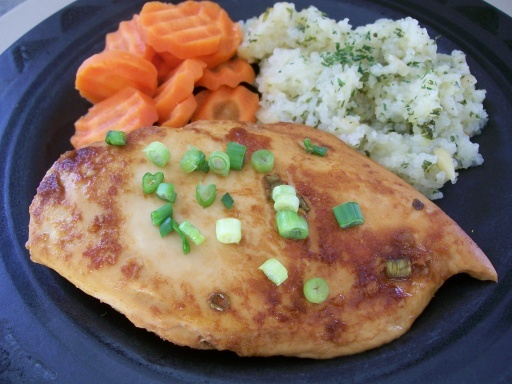background: (18, 0, 398, 215)
